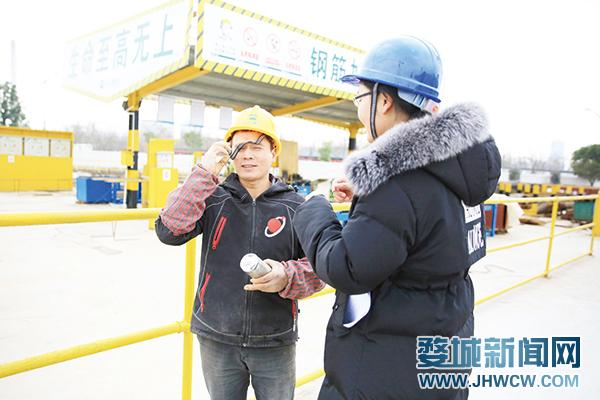helmet: (347, 37, 449, 90), (227, 106, 284, 155)
